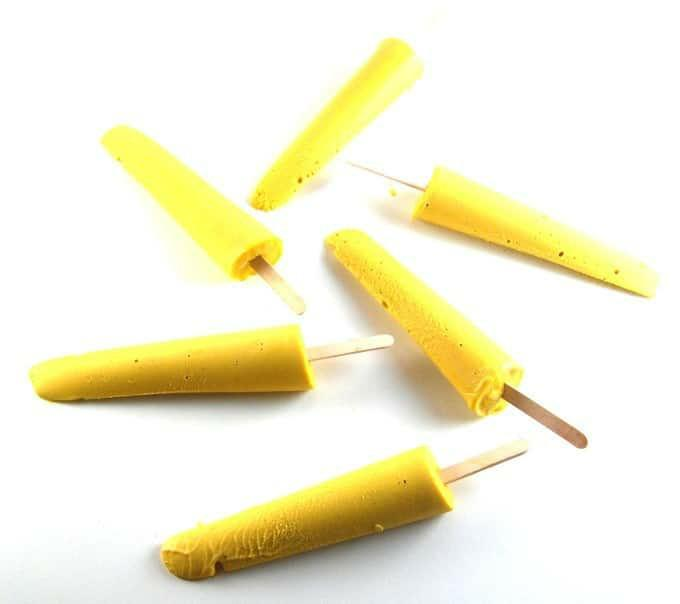Kulfi: (158, 443, 448, 584), (323, 230, 527, 419), (249, 38, 424, 211), (99, 122, 282, 284), (418, 171, 655, 296), (28, 326, 313, 402)
